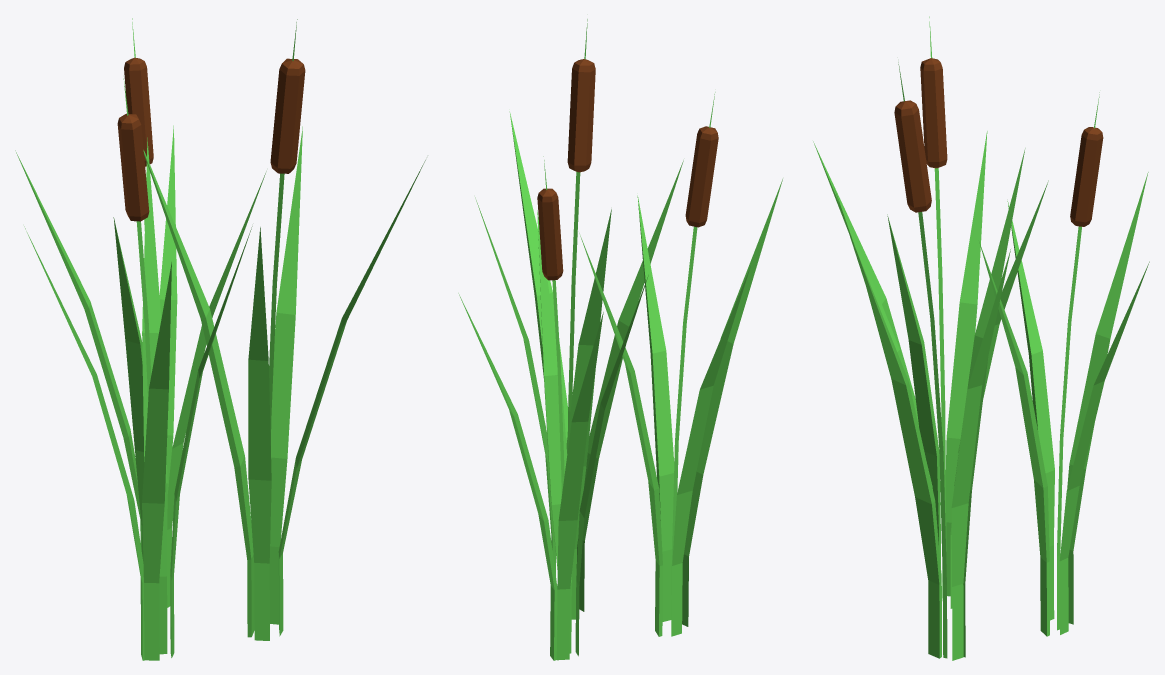
The model's file is Reeds.fbx.
3 renders of one model, left to right at view 1: azimuth 30°, elevation 25°; view 2: azimuth 150°, elevation 25°; view 3: azimuth 270°, elevation 25°, orthographic. The views are drawn at different scales.
Parts seen in each view (by area): view 1: Cylinder.002; view 2: Cylinder.002; view 3: Cylinder.002.
Boxes of the visible parts, left/top/right/bottom form: Cylinder.002: left=15, top=18, right=425, bottom=660; Cylinder.002: left=458, top=19, right=782, bottom=660; Cylinder.002: left=813, top=16, right=1149, bottom=660.
Size of the model in its own units: 204 by 372 by 189.
